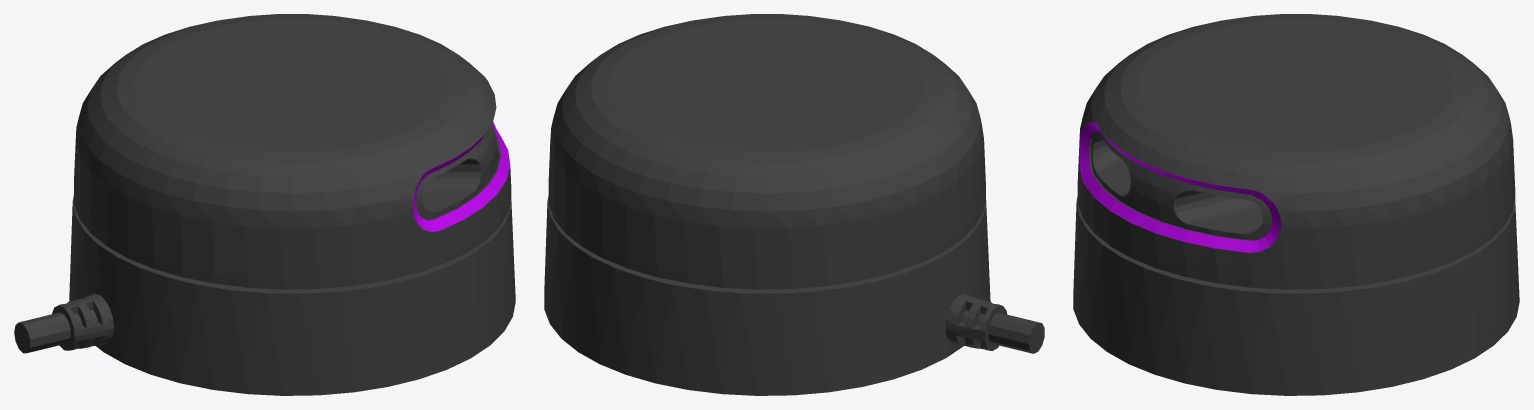
File: slamtec_rplidar_ax.dae
3 views of the same model, side by side, from view 1: azimuth 30°, elevation 25°; view 2: azimuth 150°, elevation 25°; view 3: azimuth 270°, elevation 25° (orthographic).
Parts seen in each view (by area): view 1: RPlidarA3LR; view 2: RPlidarA3LR; view 3: RPlidarA3LR.
Boxes of the visible parts, box(x1,y1,x2,y2) form: RPlidarA3LR: box(14, 14, 515, 395); RPlidarA3LR: box(544, 14, 1044, 395); RPlidarA3LR: box(1073, 14, 1519, 395).
Bounding box in the file's own units: 0.091 × 0.0759 × 0.0405.
